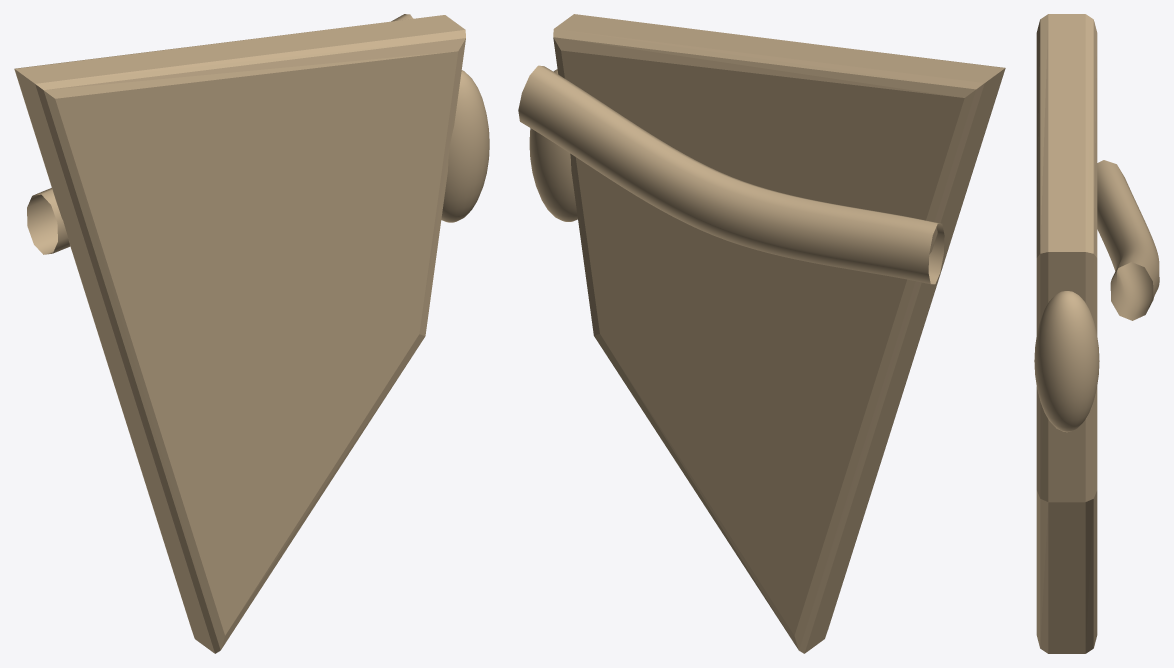
The model's file is left_scapula.glb.
3 views of the same model, side by side, from view 1: azimuth 30°, elevation 25°; view 2: azimuth 150°, elevation 25°; view 3: azimuth 270°, elevation 25° (orthographic). The views are drawn at different scales.
Visible parts, largest first — view 1: left_scapula:blade, left_scapula:glenoid, left_scapula:spine; view 2: left_scapula:blade, left_scapula:spine, left_scapula:glenoid; view 3: left_scapula:blade, left_scapula:glenoid, left_scapula:spine.
Boxes of the visible parts, x1,y1,x2,y2 form: left_scapula:blade: (14, 15, 465, 653); left_scapula:glenoid: (441, 70, 489, 222); left_scapula:spine: (27, 14, 413, 254); left_scapula:blade: (553, 14, 1005, 653); left_scapula:spine: (518, 65, 944, 284); left_scapula:glenoid: (529, 69, 577, 221); left_scapula:blade: (1036, 14, 1097, 653); left_scapula:glenoid: (1034, 291, 1099, 432); left_scapula:spine: (1097, 160, 1159, 320).
Bounding box in the file's own units: 0.4154 × 0.5293 × 0.1072.
